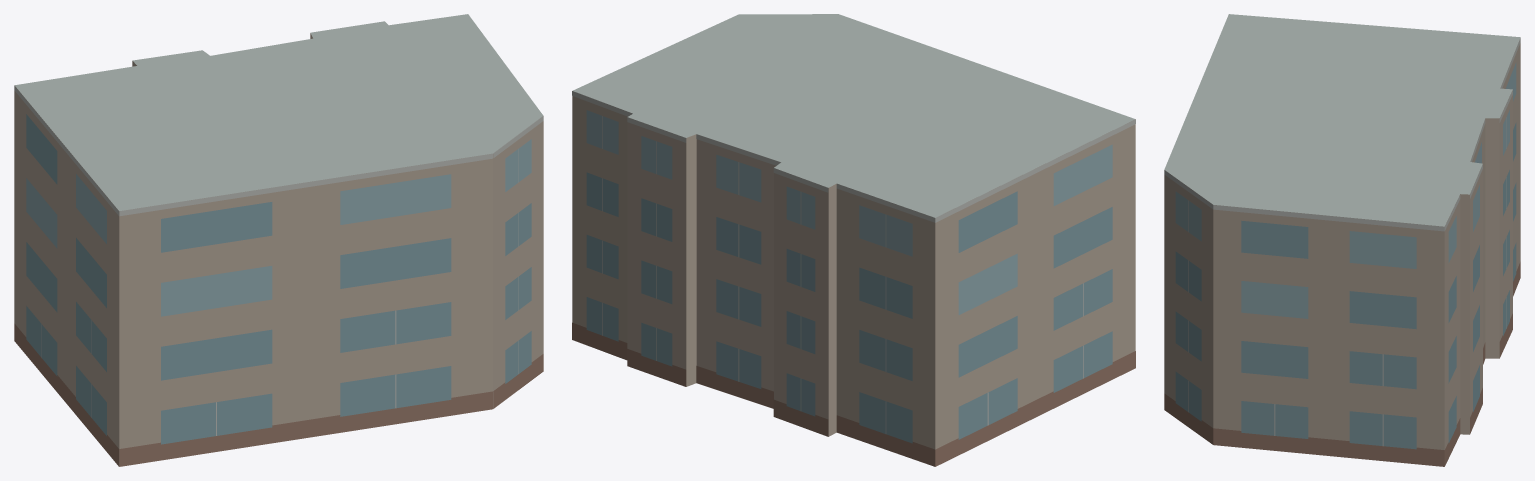
File: survey-upis-32674089.glb
3 renders of one model, left to right at view 1: azimuth 30°, elevation 25°; view 2: azimuth 150°, elevation 25°; view 3: azimuth 270°, elevation 25°, orthographic. The views are drawn at different scales.
Visible parts, largest first — view 1: survey-upis-32674089.tmp; view 2: survey-upis-32674089.tmp; view 3: survey-upis-32674089.tmp.
Part boxes in pixels (x1,y1,x2,y2): survey-upis-32674089.tmp: (14,14,543,466); survey-upis-32674089.tmp: (572,14,1135,466); survey-upis-32674089.tmp: (1164,14,1520,466).
Bounding box in the file's own units: 23.17 × 12.2 × 16.41.
